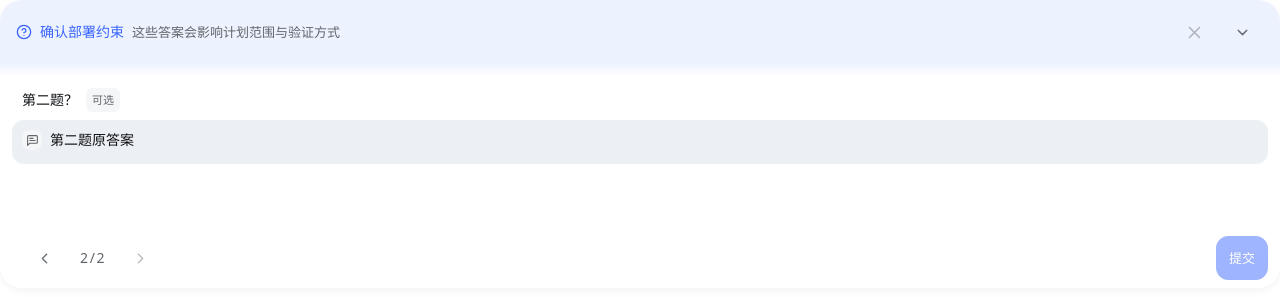
Test case: PlanQuestionComposer › 确认中可浏览前后问题及原答案，浏览不修改已提交表单
The image size is (1280, 297).
Expected: the text box holds "第二题原答案", [50,128,1258,152]
Click the button named "浏览上一题" at {"x": 44, "y": 258}, box [22,236,66,280]
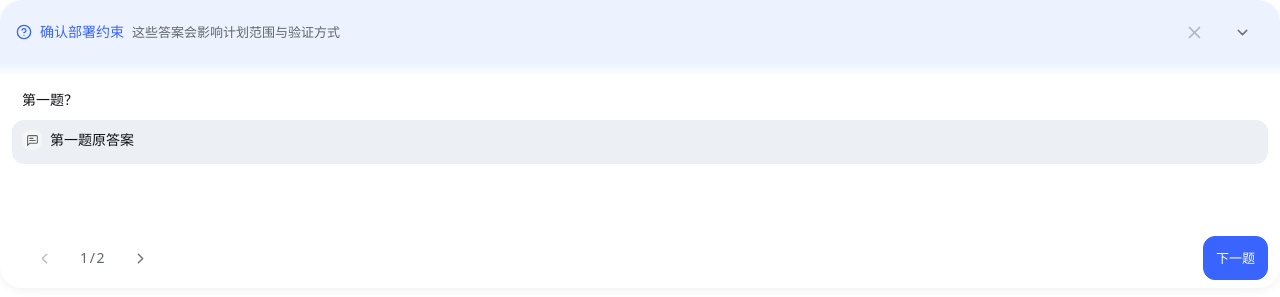
Expected: the text box holds "第一题原答案", [50,128,1258,152]
Click the button named "浏览下一题" at {"x": 140, "y": 258}, box [118,236,162,280]
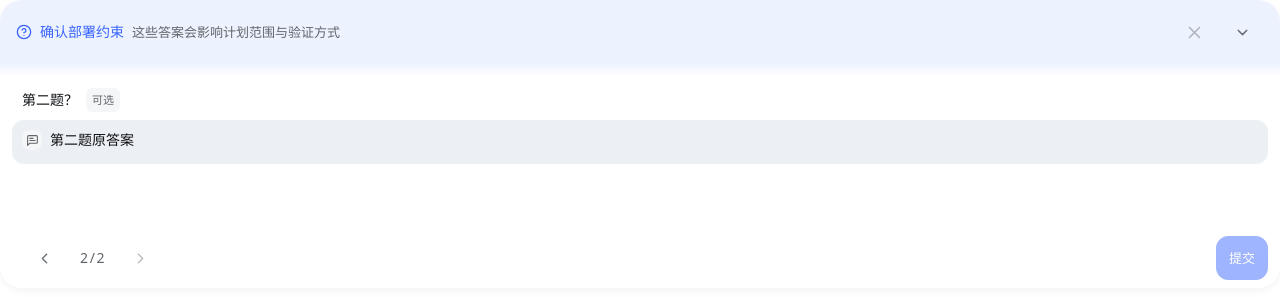
Expected: the text box holds "第二题原答案", [50,128,1258,152]
